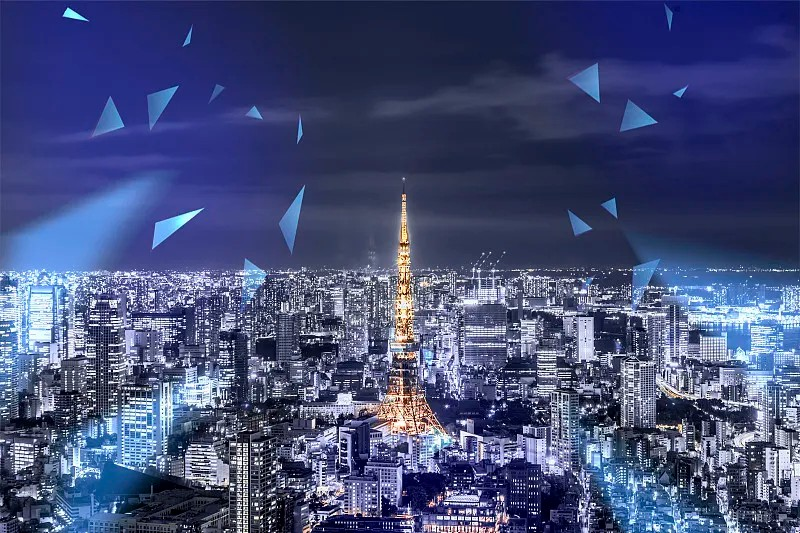Tokyo: (372, 175, 450, 436)
